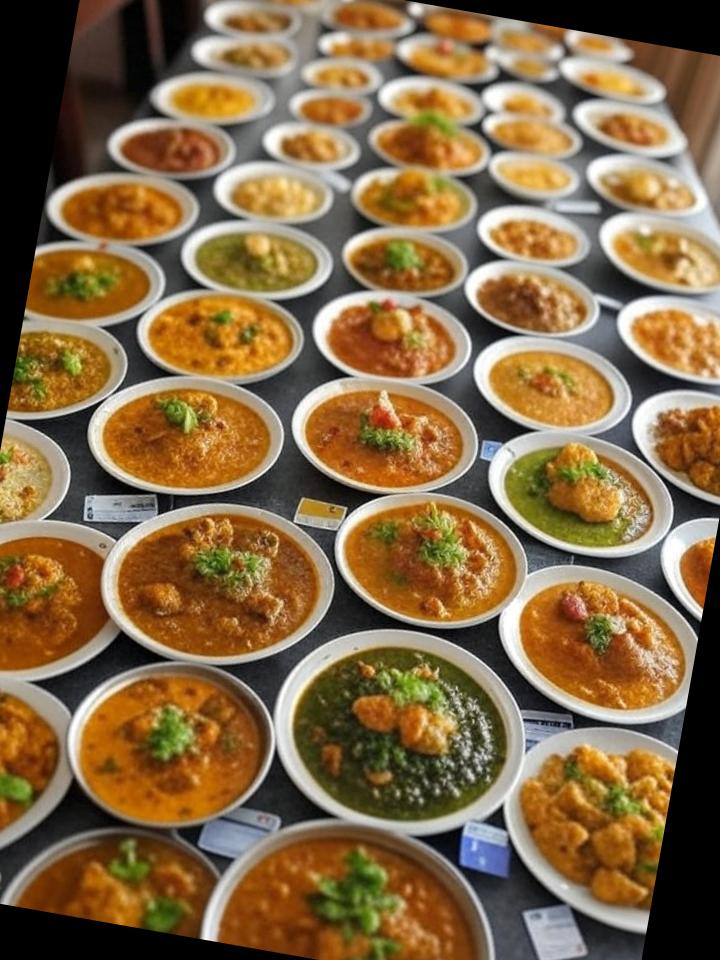sabji: (11, 10, 641, 914), (322, 376, 450, 478)
